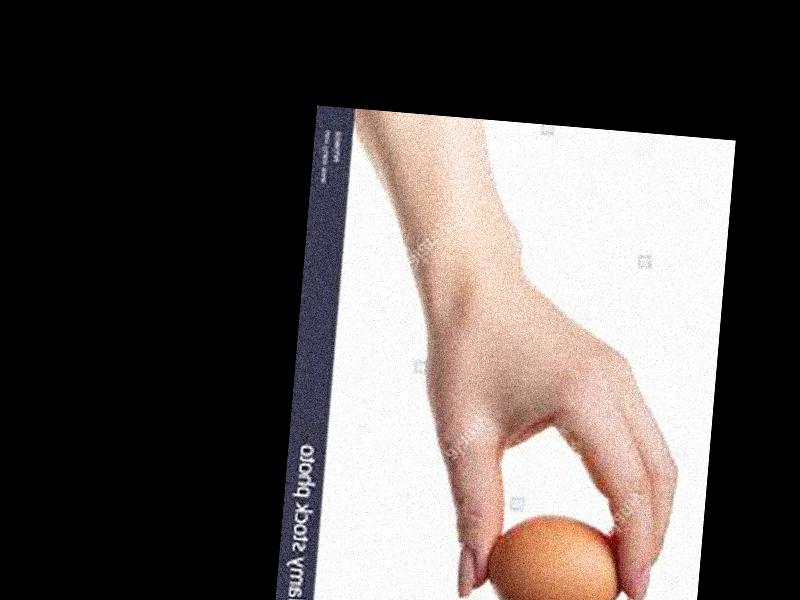Eggs: (484, 505, 627, 600)
